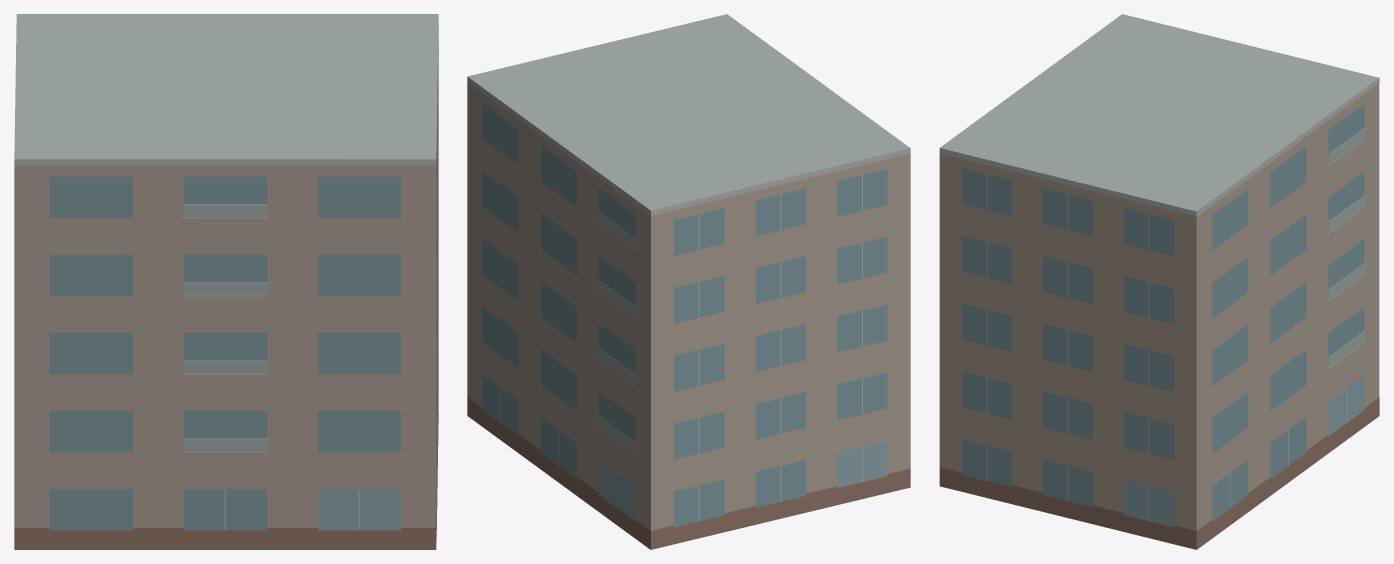
Rendered from survey-upis-32961816.glb.
3 renders of one model, left to right at view 1: azimuth 30°, elevation 25°; view 2: azimuth 150°, elevation 25°; view 3: azimuth 270°, elevation 25°, orthographic. The views are drawn at different scales.
Visible parts, largest first — view 1: survey-upis-32961816.tmp; view 2: survey-upis-32961816.tmp; view 3: survey-upis-32961816.tmp.
Boxes of the visible parts, box(x1,y1,x2,y2) form: survey-upis-32961816.tmp: box(14, 14, 438, 549); survey-upis-32961816.tmp: box(467, 14, 910, 549); survey-upis-32961816.tmp: box(939, 14, 1379, 549).
Size of the model in its own units: 19.11 by 15.25 by 17.98.
